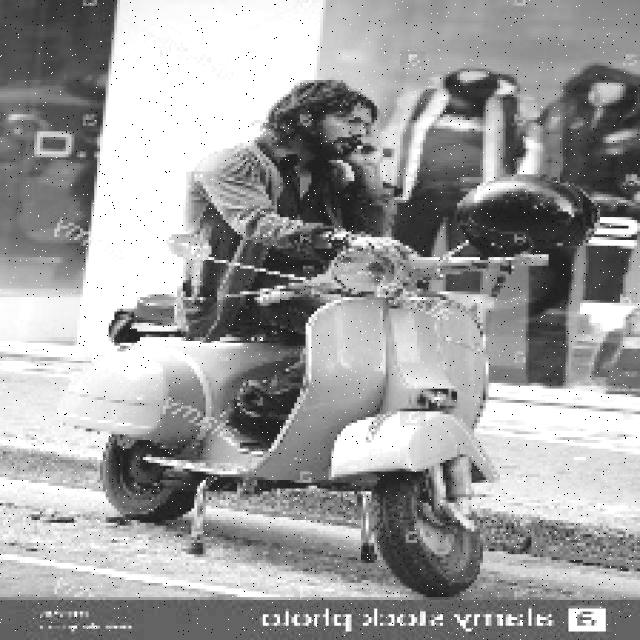Bike: (68, 252, 538, 589)
